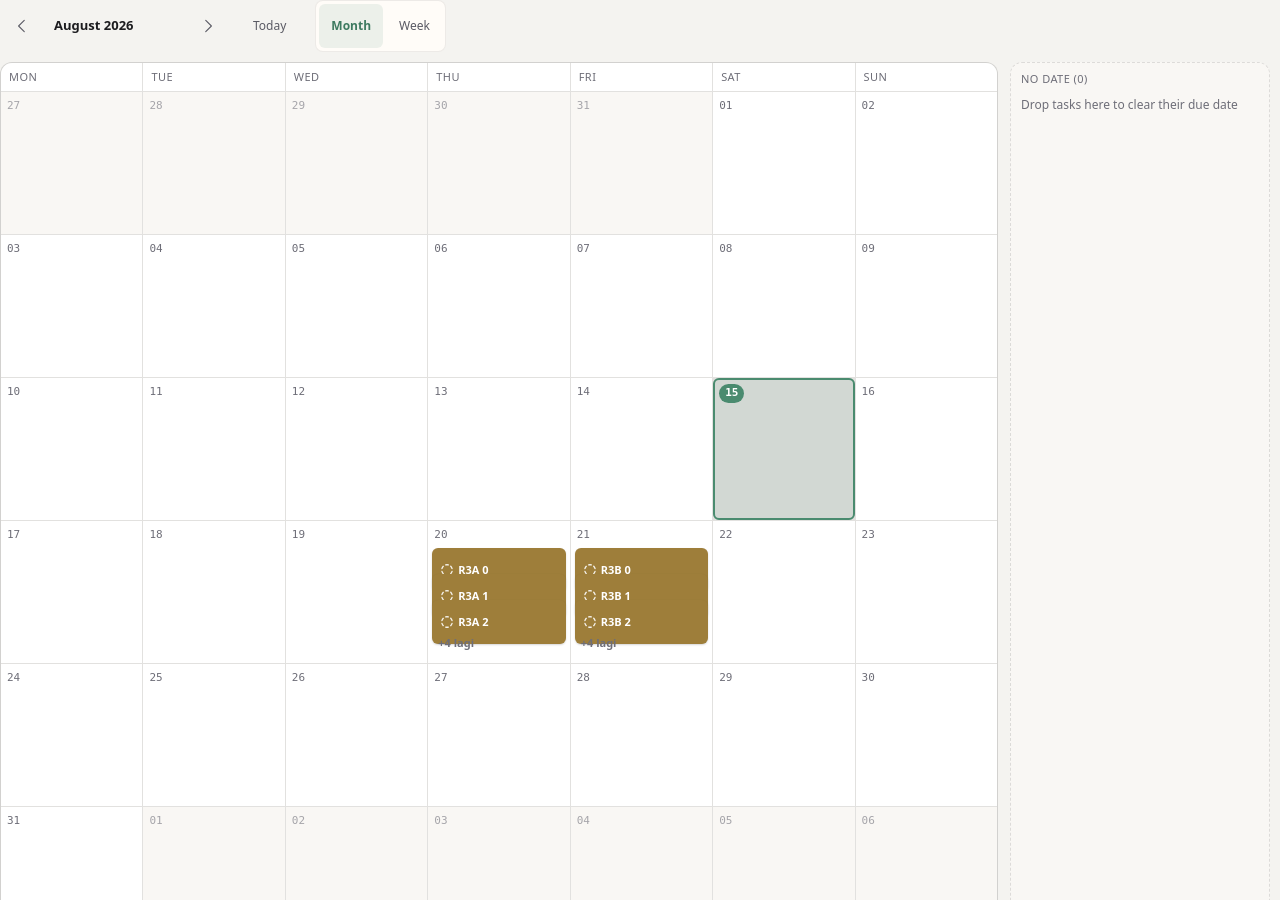
Test: DueCalendar › satu tombol ciutkan per baris + muat di slot footer dalam cell
Click the 1st button "+4 lagi".
click(499, 643)  # box x1=432 y1=632 x2=566 y2=654
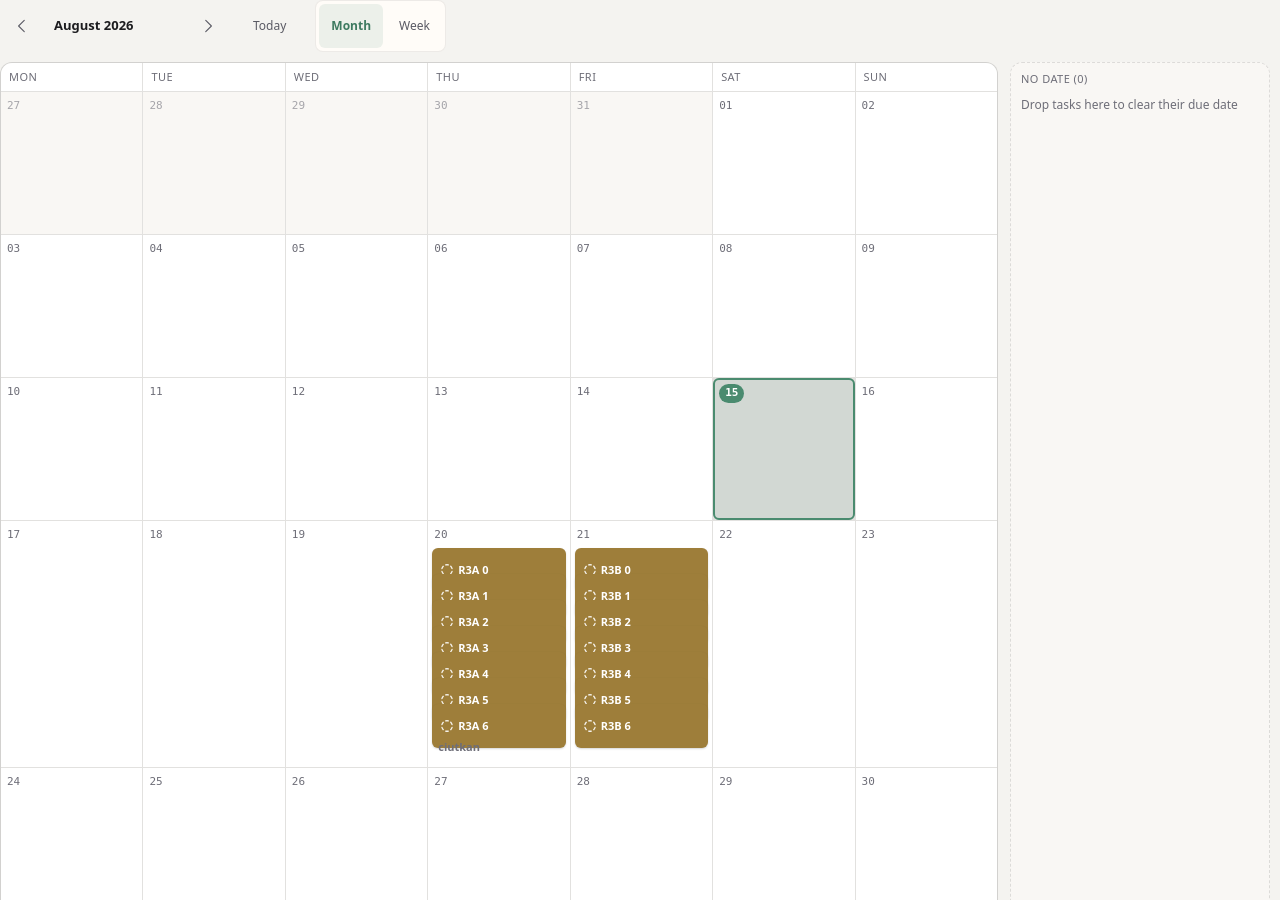
Check: the number of buttons "ciutkan" is 1
Collapse per baris mengembalikan kedua tombol more.
Click the button "ciutkan".
click(499, 747)  # box x1=432 y1=736 x2=566 y2=758
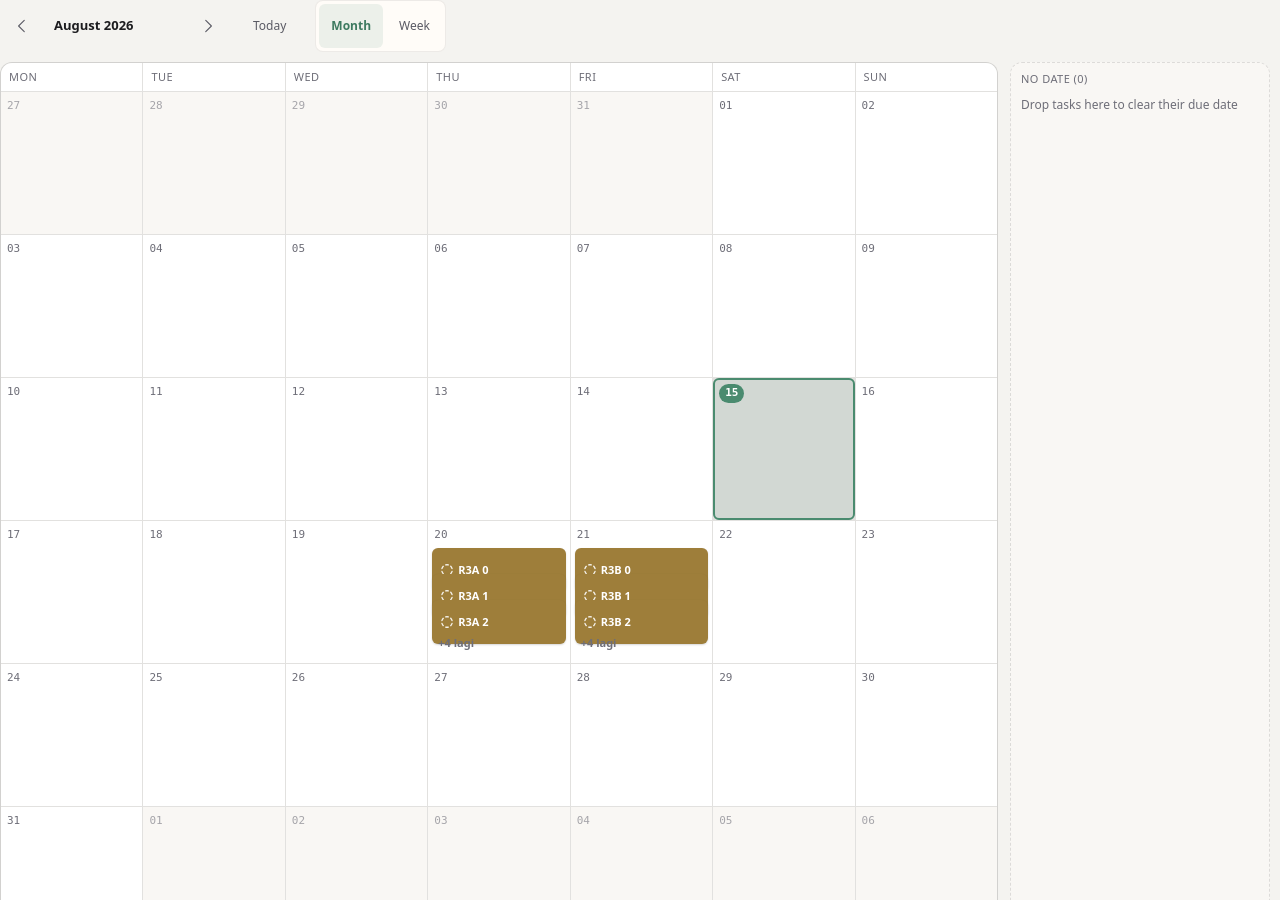
Check: the number of buttons "+4 lagi" is 2, box x1=432 y1=632 x2=566 y2=654; x1=575 y1=632 x2=708 y2=654
